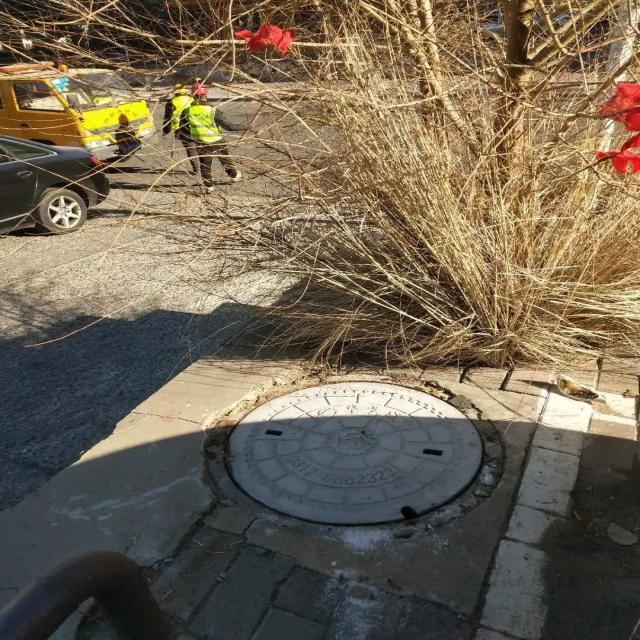manhole: (229, 382, 482, 525)
